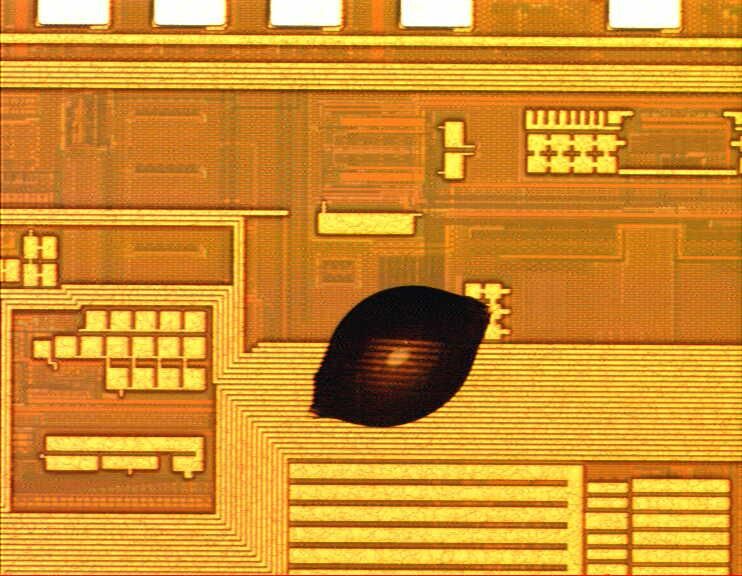PO CONTAMINATION: (306, 282, 499, 434)
